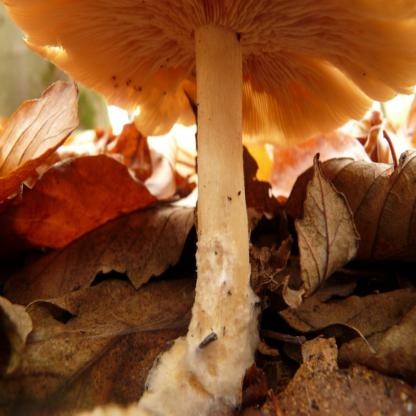Mushroom: (7, 0, 416, 380)
